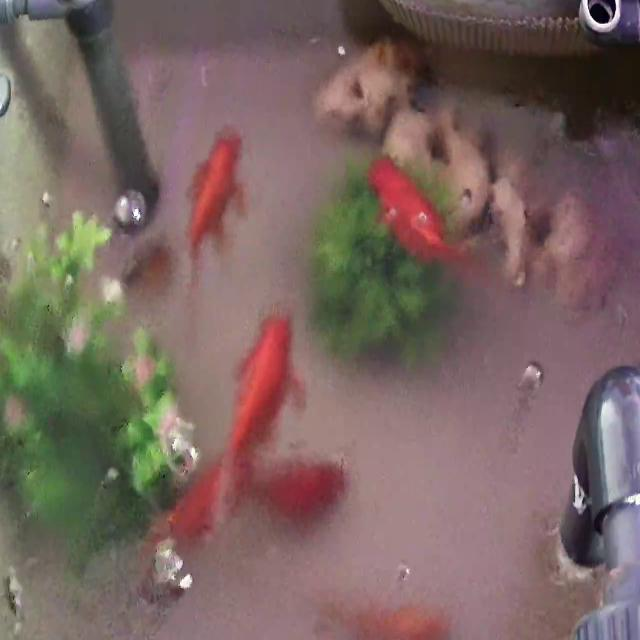fish: (372, 156, 469, 269), (228, 309, 298, 463), (187, 127, 246, 263), (248, 454, 348, 519), (159, 457, 227, 550), (348, 596, 438, 640)
